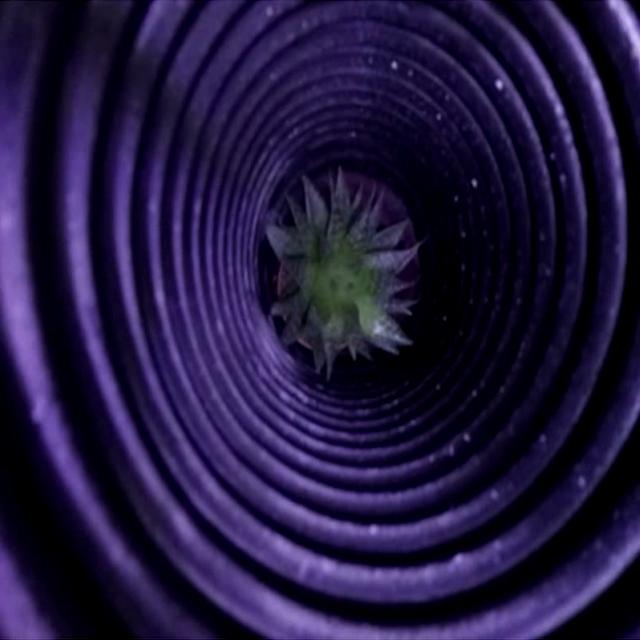leaf: (267, 173, 408, 368)
